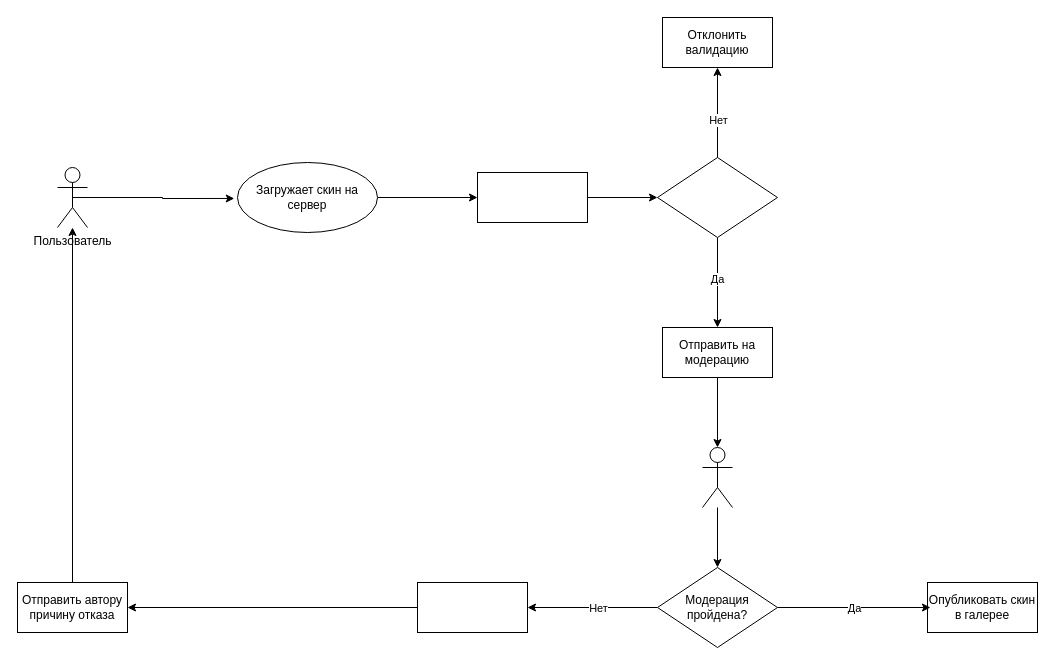
Some shapes in this 1055 by 665 pixel diagram are drawn without their labels. Here are the shapes that lost their labels. From the top down, the centre of each, then its label:
pixel 532 197: Система проверки файла
pixel 717 197: Проверка пройдена?
pixel 717 477: Модератор
pixel 472 607: Отклонить работу
